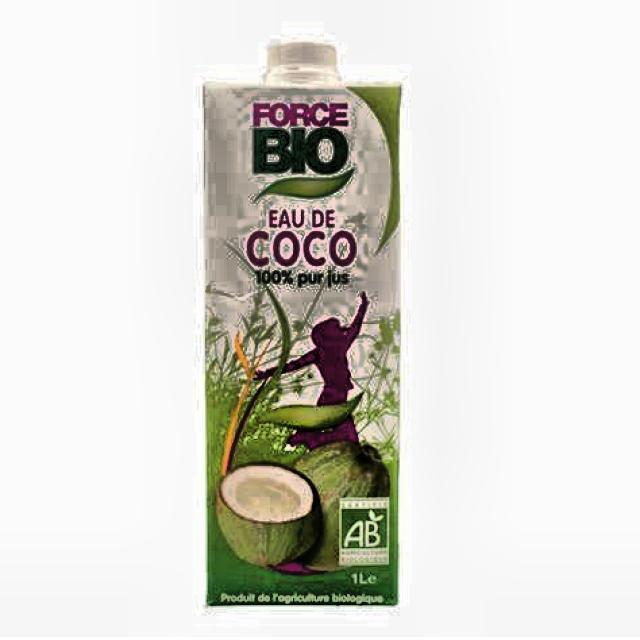cardboard: (201, 62, 401, 606)
